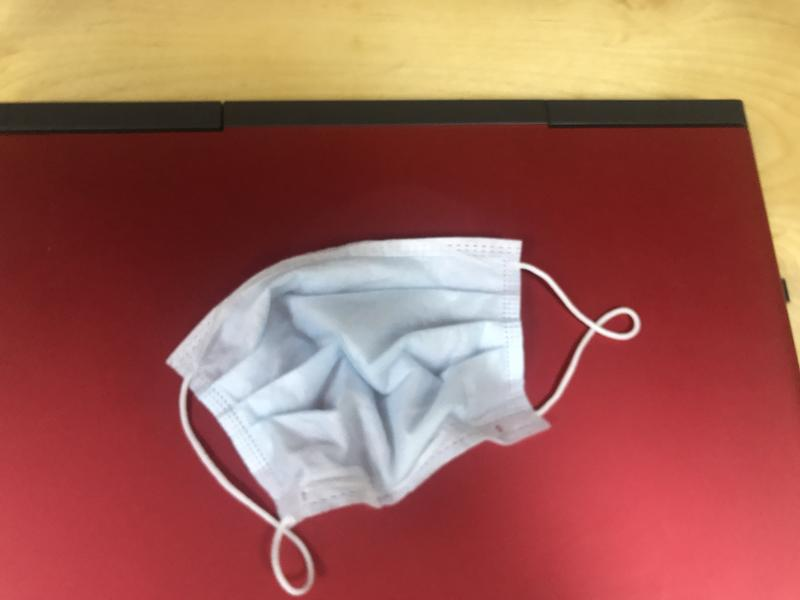medical_mask: (169, 240, 640, 598)
